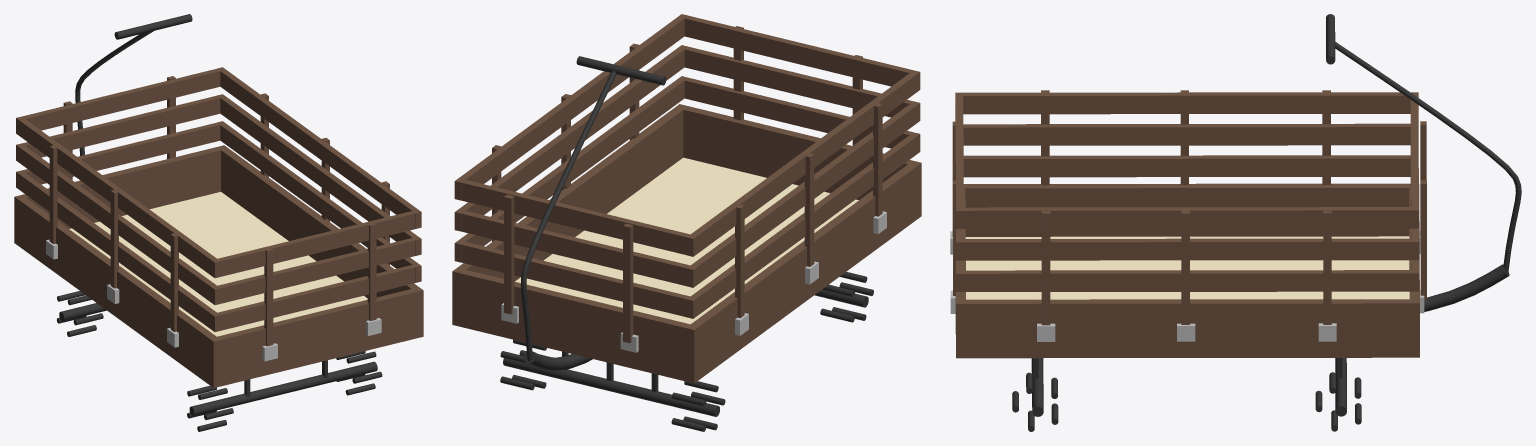
The model's file is wagon_wheelless.glb.
3 views of the same model, side by side, from view 1: azimuth 30°, elevation 25°; view 2: azimuth 150°, elevation 25°; view 3: azimuth 270°, elevation 25° (orthographic). The views are drawn at different scales.
Parts seen in each view (by area): view 1: Box20226.001, Box20235.001, Box20232.001, Box20244.001, Box20231.001, Box20237.001, Box20238.001, Box20240.001, Box20245.001, Box20241.001, Box20236.001, Box20243.001 (+9 smaller); view 2: Box20226.001, Box20232.001, Box20244.001, Box20231.001, Box20235.001, Box20240.001, Box20238.001, Box20237.001, Box20239.001, Box20243.001, Box20245.001, Box20236.001 (+10 smaller); view 3: Box20226.001, Box20232.001, Box20231.001, Box20237.001, Box20244.001, Box20235.001, Box20236.001, Line005.001, Line004.001, Box20247.001, Box20230.001, Box20249.001 (+3 smaller).
Boxes of the visible parts, x1,y1,x2,y2 form: Box20226.001: (14, 145, 423, 387); Box20235.001: (218, 67, 421, 228); Box20232.001: (16, 116, 220, 278); Box20244.001: (16, 144, 220, 304); Box20231.001: (16, 171, 220, 331); Box20237.001: (217, 94, 421, 255); Box20238.001: (22, 68, 221, 130); Box20240.001: (214, 211, 417, 276); Box20245.001: (214, 237, 417, 303); Box20241.001: (217, 264, 416, 330); Box20236.001: (217, 121, 421, 282); Box20243.001: (17, 95, 222, 157); Box20226.001: (452, 104, 921, 383); Box20232.001: (686, 70, 920, 256); Box20244.001: (686, 101, 920, 287); Box20231.001: (686, 133, 920, 318); Box20235.001: (454, 14, 687, 200); Box20240.001: (684, 15, 918, 86); Box20238.001: (461, 180, 694, 254); Box20237.001: (454, 45, 687, 231); Box20239.001: (459, 241, 693, 317); Box20243.001: (461, 211, 693, 285); Box20245.001: (682, 46, 917, 117); Box20236.001: (454, 76, 687, 262); Box20226.001: (955, 183, 1419, 358); Box20232.001: (955, 92, 1418, 114); Box20231.001: (963, 155, 1410, 177); Box20237.001: (956, 238, 1419, 260); Box20244.001: (963, 123, 1410, 145); Box20235.001: (956, 207, 1419, 228); Box20236.001: (956, 270, 1419, 291); Line005.001: (1335, 41, 1521, 272); Line004.001: (1424, 264, 1509, 311); Box20247.001: (1041, 211, 1050, 325); Box20230.001: (1323, 210, 1331, 324); Box20249.001: (1181, 210, 1189, 324).
Size of the model in its own units: 8.9 by 11.38 by 17.14.
